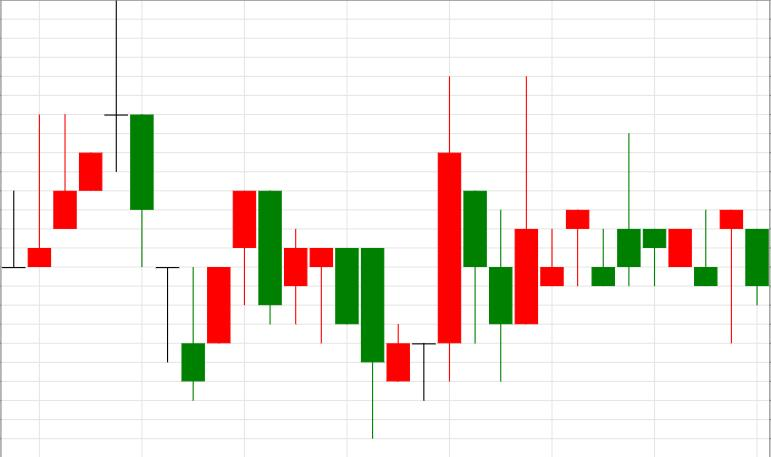inverse_hammer_rise: (104, 0, 205, 400)
